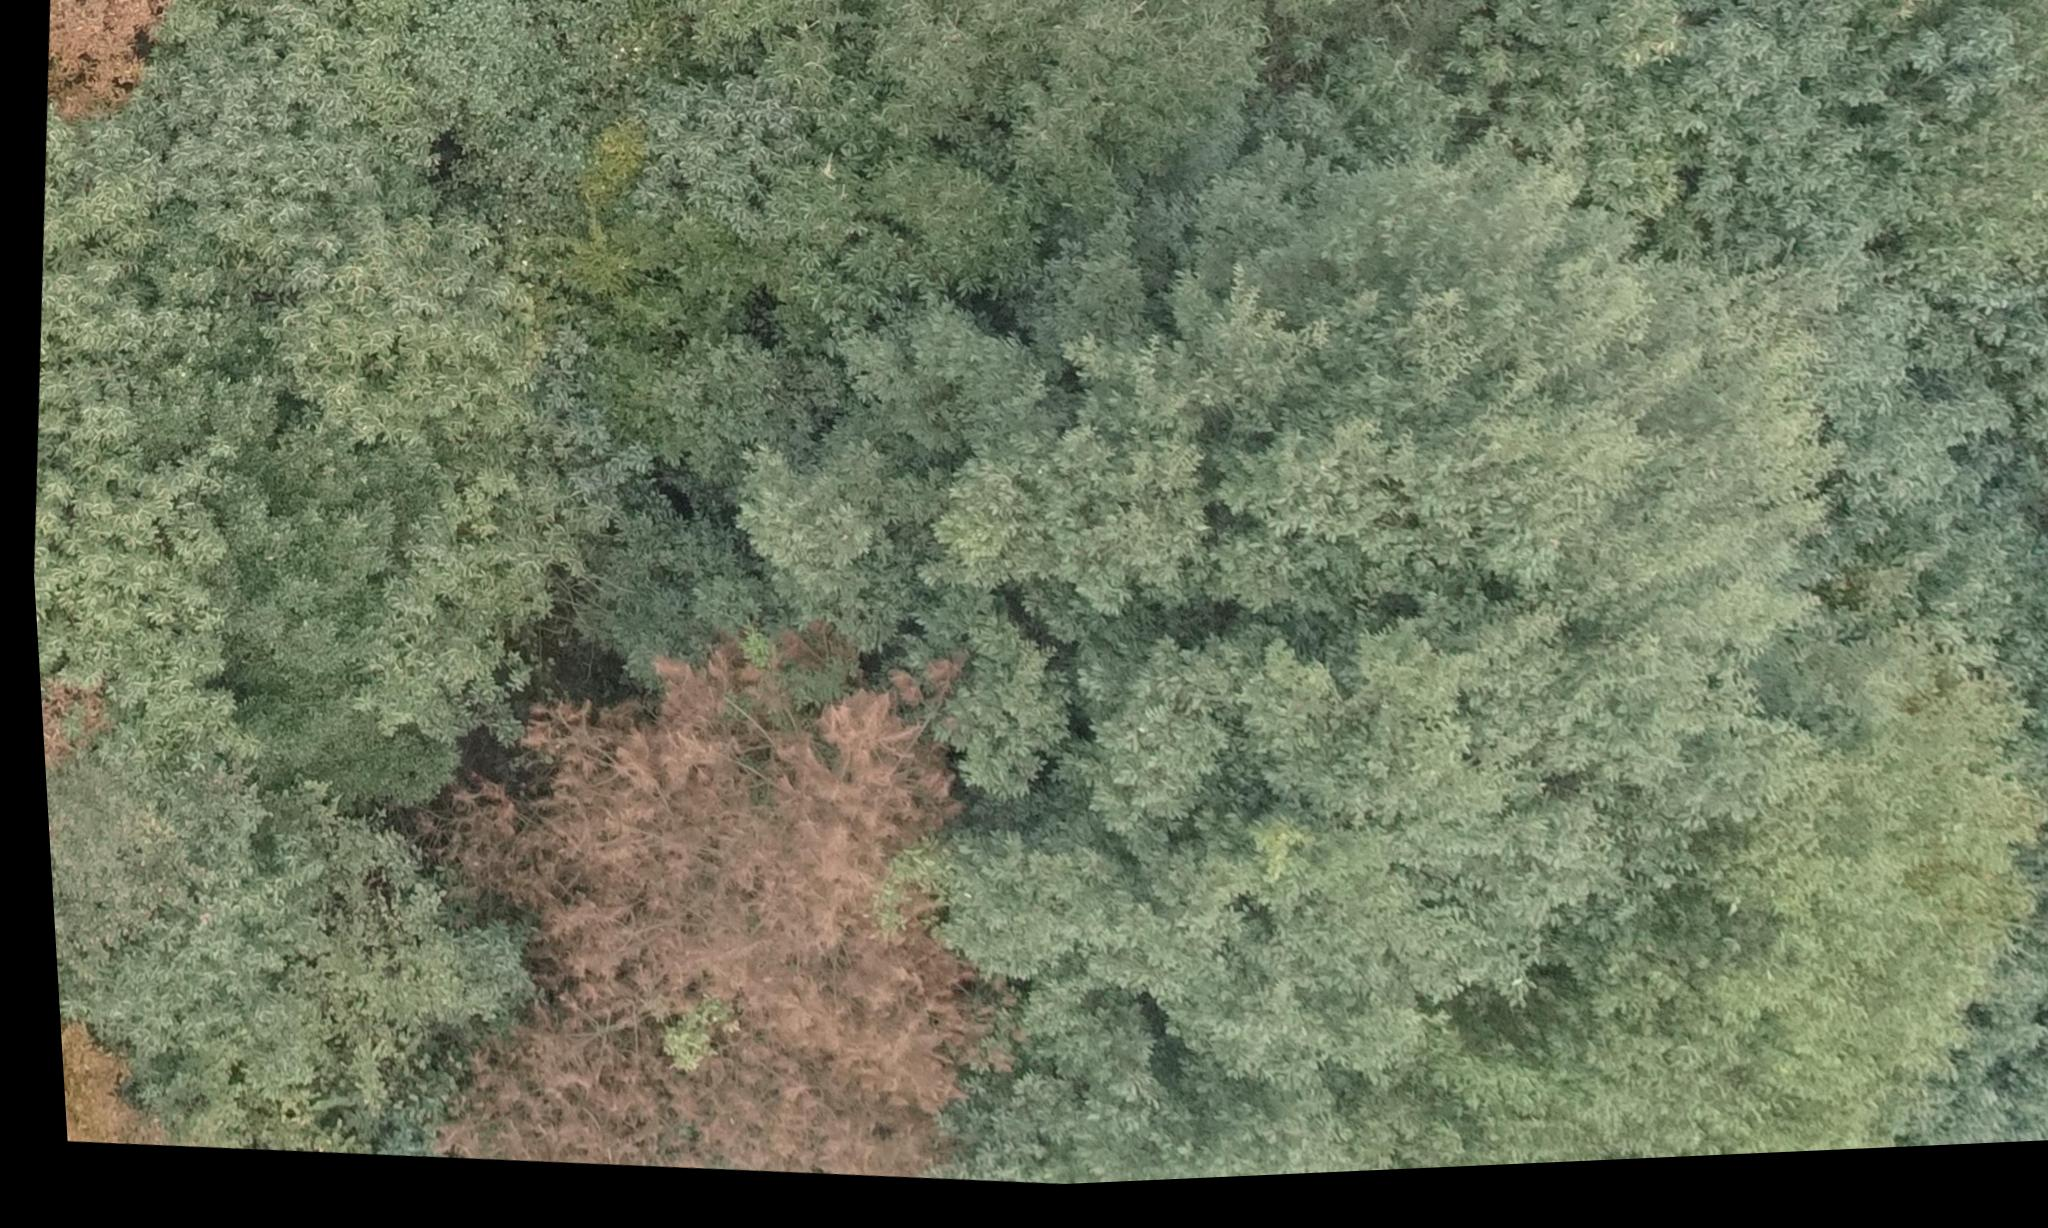heavy: (361, 564, 1006, 1193)
